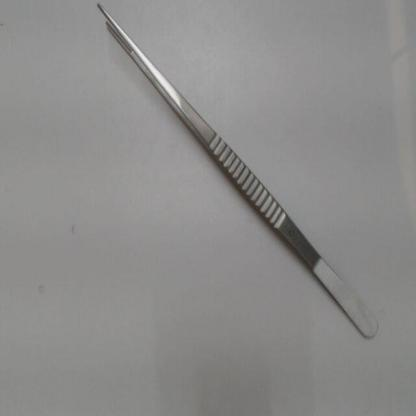DeBakey Dissector: (90, 3, 394, 355)
